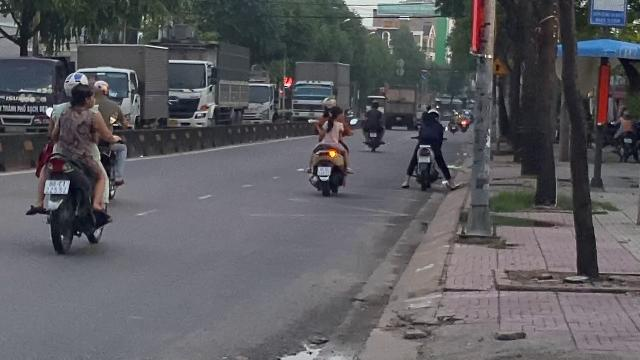helmet: (62, 72, 90, 94), (93, 79, 109, 97)
licenseplate: (44, 179, 68, 193)
motorcyclist: (26, 71, 119, 253)
nohelmet: (68, 84, 94, 108)
